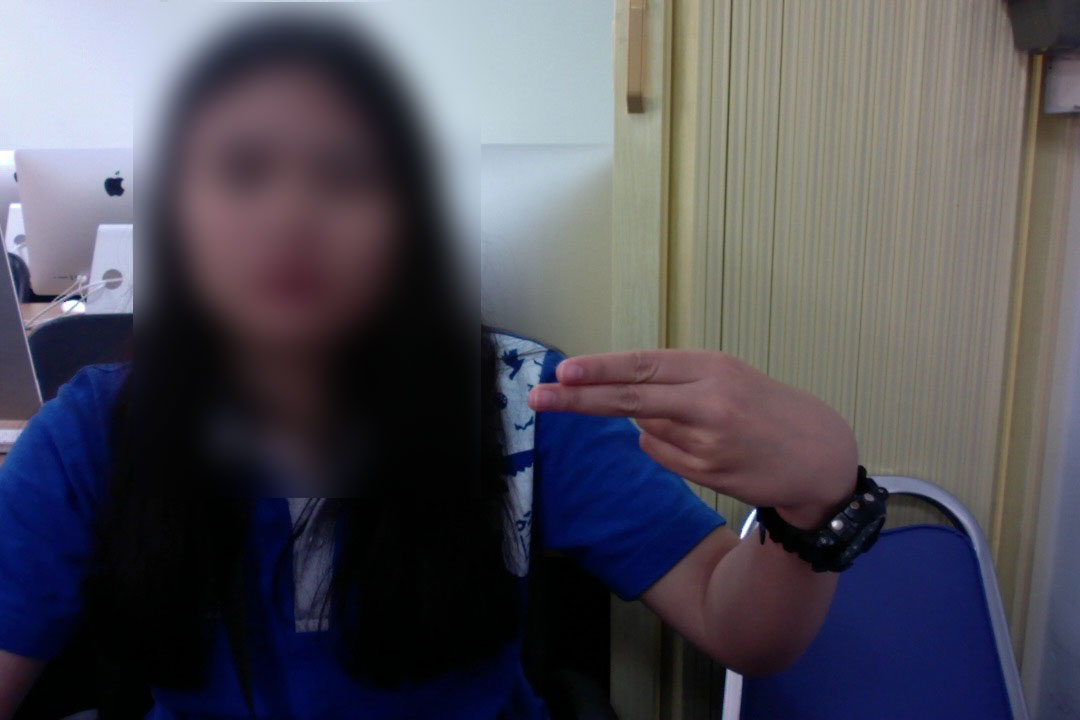hor: (522, 342, 866, 514)
